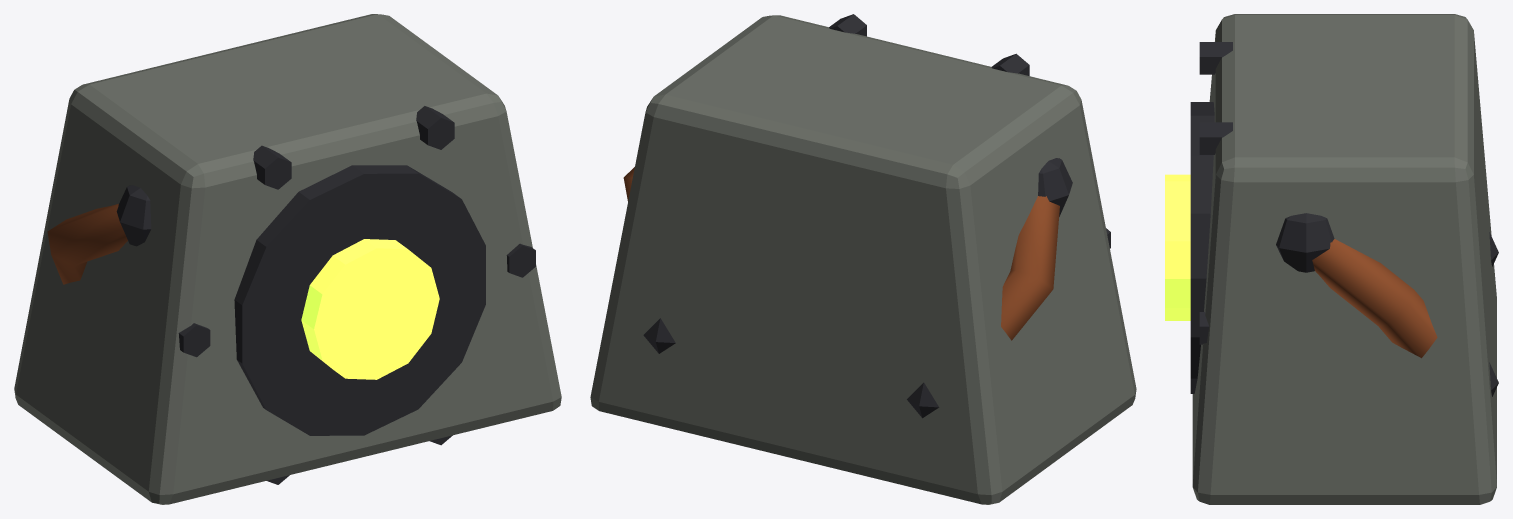
Rendered from co_bile.glb.
3 renders of one model, left to right at view 1: azimuth 30°, elevation 25°; view 2: azimuth 150°, elevation 25°; view 3: azimuth 270°, elevation 25°, orthographic.
Visible parts, largest first — view 1: co_bile; view 2: co_bile; view 3: co_bile.
Boxes of the visible parts, bbox=[...] form: co_bile: bbox=[14, 14, 561, 504]; co_bile: bbox=[590, 14, 1136, 504]; co_bile: bbox=[1165, 14, 1498, 504].
Bounding box in the file's own units: 0.167 × 0.1294 × 0.1118.
